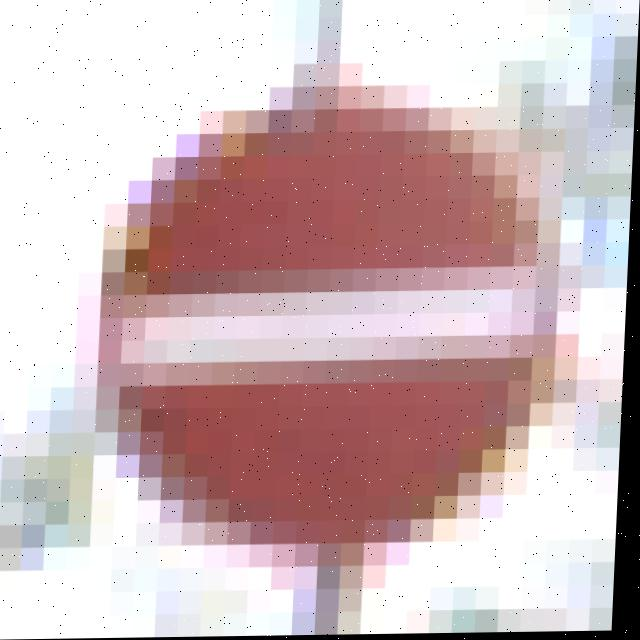road_rough: (75, 69, 590, 566)
